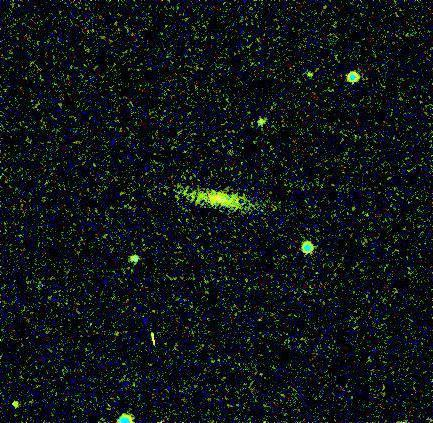star: (249, 108, 279, 138)
